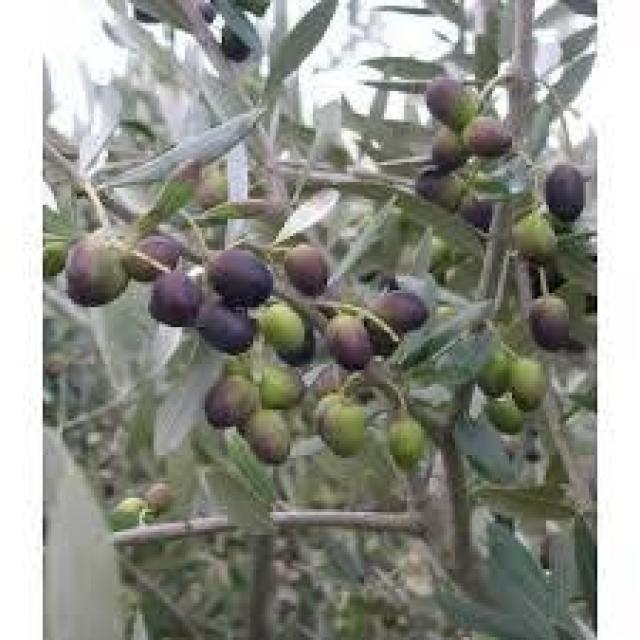Healthy: (65, 228, 128, 304), (208, 245, 279, 310), (427, 77, 478, 134), (511, 212, 560, 269), (545, 164, 587, 228), (239, 410, 287, 464), (386, 412, 430, 469), (284, 238, 327, 296), (506, 356, 552, 410), (529, 296, 571, 349)
